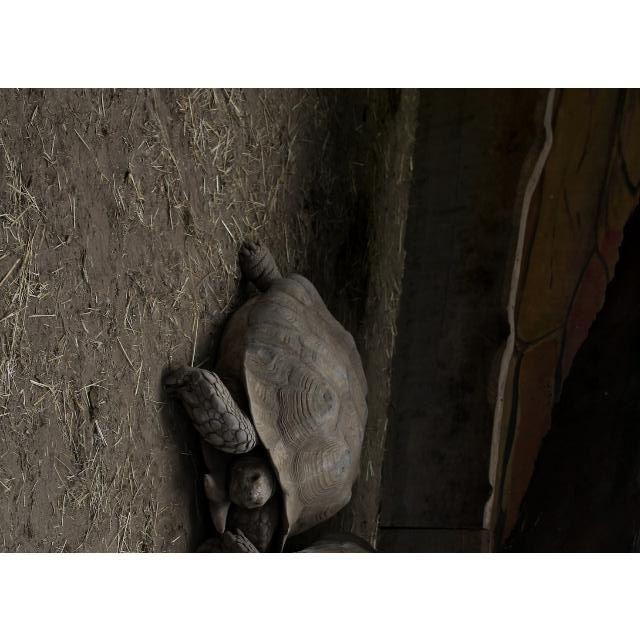turtle: (162, 237, 371, 550)
